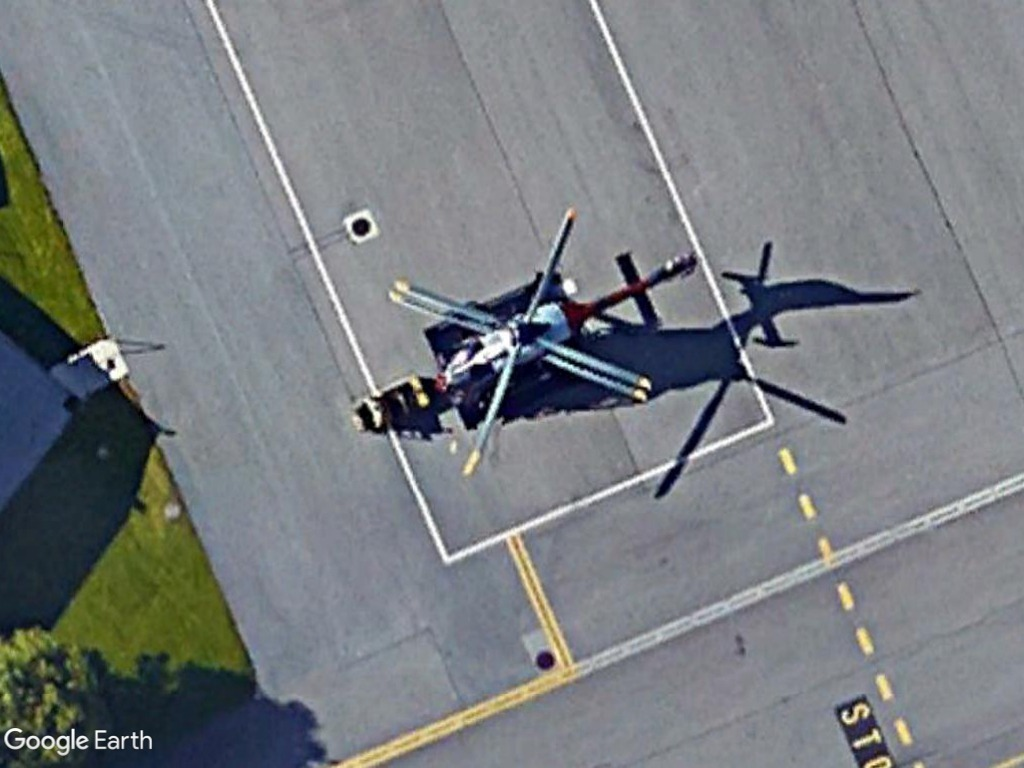helicopter: (382, 200, 711, 482)
